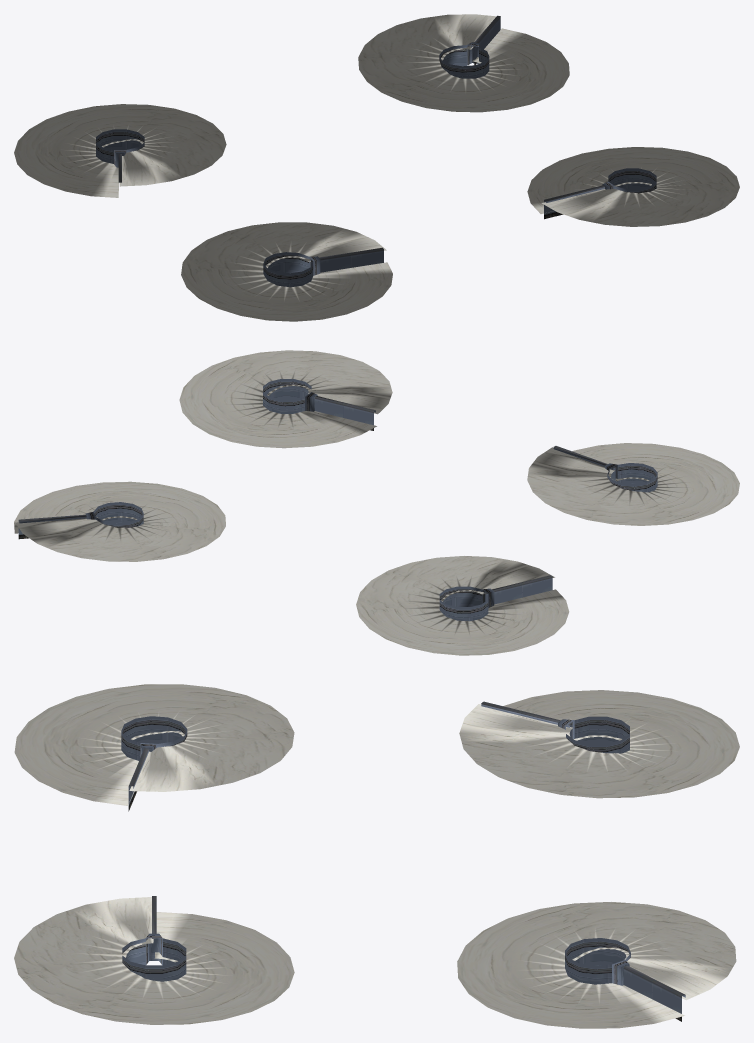
Rendered from stg210_MotCreamB_12.obj.
3 renders of one model, top to bottom at view 1: azimuth 30°, elevation 25°; view 2: azimuth 150°, elevation 25°; view 3: azimuth 270°, elevation 25°, orthographic. The views are drawn at different scales.
Parts seen in each view (by area): view 1: polygon3, polygon6, polygon0, polygon4, polygon2, polygon7, polygon5, polygon1; view 2: polygon0, polygon4, polygon3, polygon6, polygon1, polygon5, polygon7, polygon2; view 3: polygon4, polygon6, polygon3, polygon0, polygon7, polygon1, polygon5, polygon2.
Part boxes in pixels (x1,y1,x2,y2): polygon3: [181, 222, 392, 321]; polygon6: [358, 14, 569, 112]; polygon0: [14, 104, 226, 197]; polygon4: [527, 147, 739, 226]; polygon2: [263, 247, 383, 287]; polygon7: [439, 15, 500, 78]; polygon5: [544, 168, 656, 219]; polygon1: [96, 129, 144, 182]; polygon0: [356, 556, 569, 655]; polygon4: [179, 350, 392, 448]; polygon3: [527, 443, 739, 525]; polygon6: [14, 481, 225, 561]; polygon1: [439, 575, 552, 621]; polygon5: [263, 379, 375, 430]; polygon7: [18, 502, 143, 539]; polygon2: [553, 446, 657, 492]; polygon4: [14, 897, 294, 1024]; polygon6: [457, 902, 736, 1028]; polygon3: [14, 684, 294, 805]; polygon0: [459, 690, 739, 798]; polygon7: [565, 938, 685, 1021]; polygon1: [481, 701, 629, 753]; polygon5: [122, 896, 186, 981]; polygon2: [121, 716, 187, 811].
Size of the model in its own units: 717 by 26.97 by 644.
2 materials, 2 textured.
